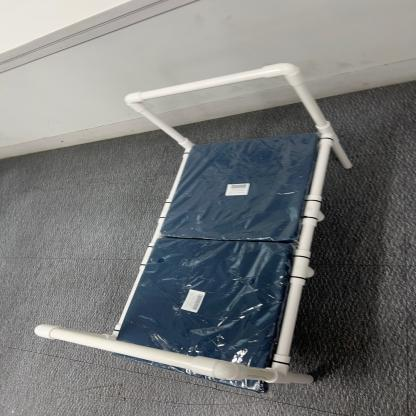np: (4, 76, 402, 389)
